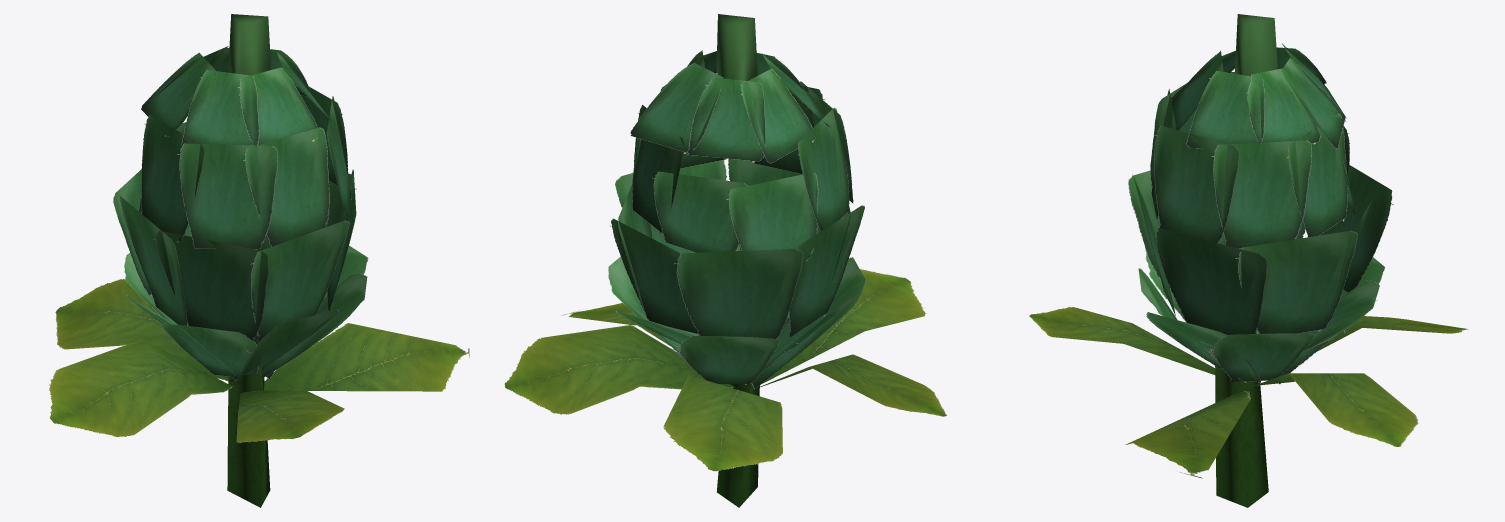
File: flowers_JuvenilePinapple_1.glb
The picture shows the model from 3 angles, left to right: view 1: azimuth 30°, elevation 25°; view 2: azimuth 150°, elevation 25°; view 3: azimuth 270°, elevation 25°; orthographic projection.
Visible parts, largest first — view 1: flowers_JuvenilePinapple_1; view 2: flowers_JuvenilePinapple_1; view 3: flowers_JuvenilePinapple_1.
Boxes of the visible parts, x1,y1,x2,y2 form: flowers_JuvenilePinapple_1: [49, 14, 469, 507]; flowers_JuvenilePinapple_1: [504, 14, 946, 507]; flowers_JuvenilePinapple_1: [1029, 14, 1468, 507].
Size of the model in its own units: 0.6297 by 0.711 by 0.6516.
Materials: 2 (2 with a texture image).
